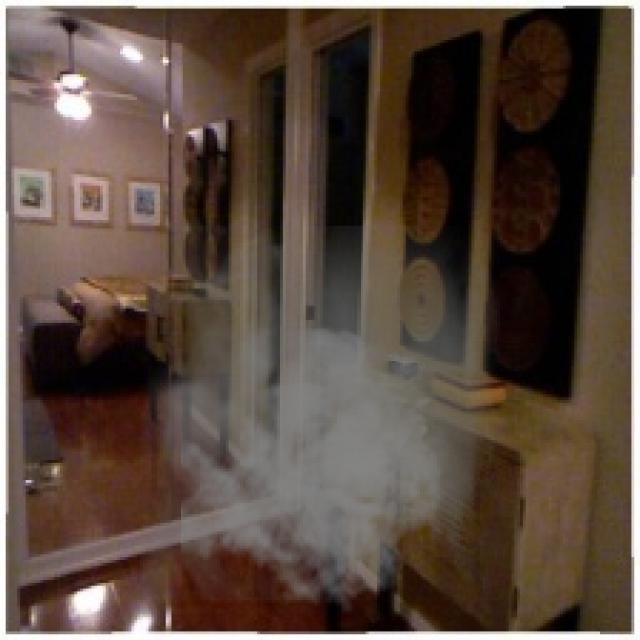Smoke: (140, 226, 500, 614)
